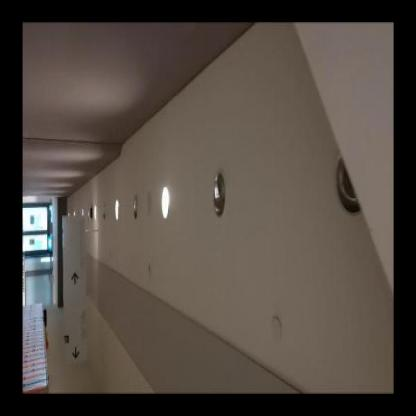light_off: (330, 138, 362, 228), (204, 153, 238, 230), (130, 176, 140, 234), (99, 191, 110, 238), (87, 194, 93, 233)
